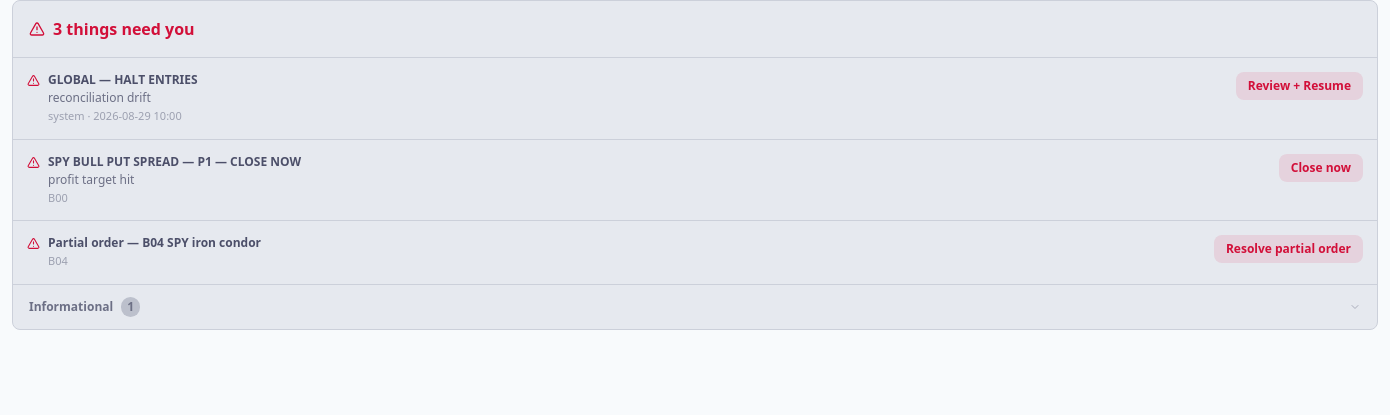
it: AttentionBlock › renders one row per seeded actionable item and one collapsed informational row
Check: the element with test id "attention-item-halt:GLOBAL" is shown, box [13,58,1377,140]
Check: the element with test id "attention-item-p1:e2e-pos-1" is shown, box [13,140,1377,221]
Click the button "Informational 1" at (71, 306), box [13,284,1377,328]
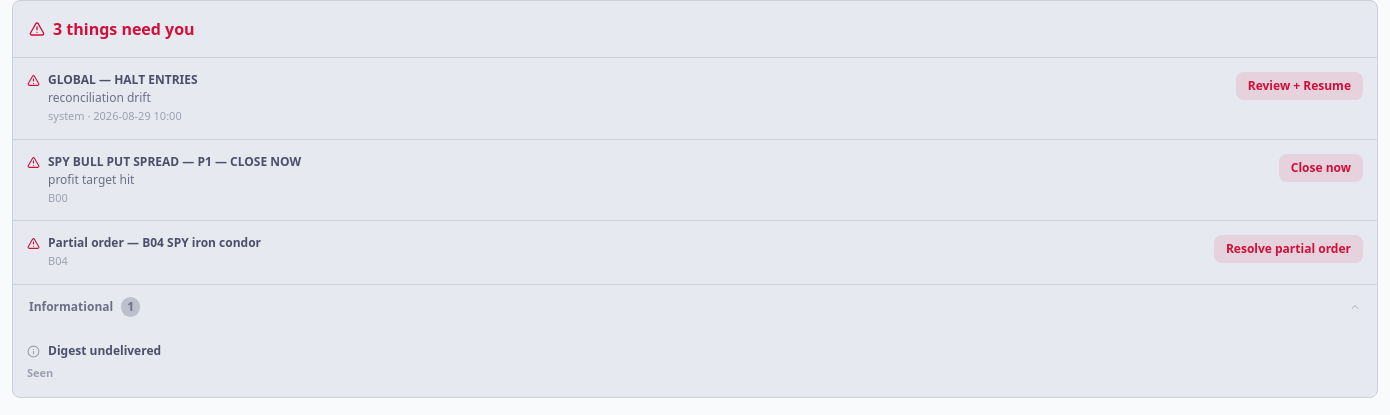
Check: the element with test id "attention-item-gap:digest" is shown, box [27,342,161,380]
